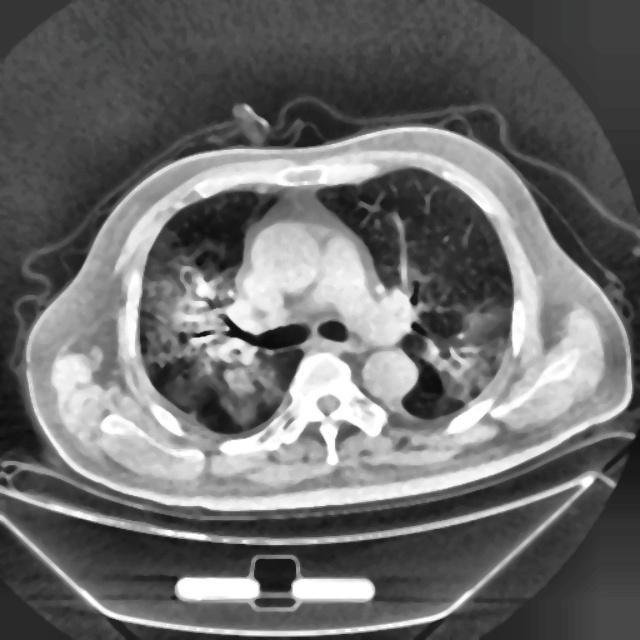covid: (19, 109, 635, 518)
